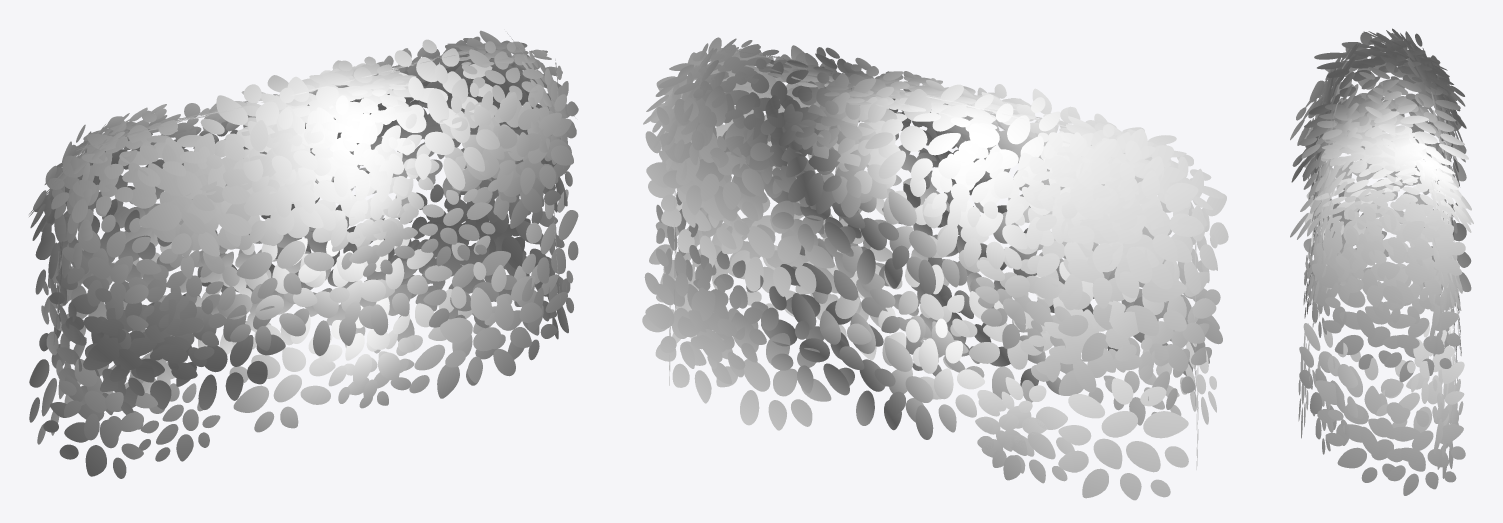
3 renders of one model, left to right at view 1: azimuth 30°, elevation 25°; view 2: azimuth 150°, elevation 25°; view 3: azimuth 270°, elevation 25°, orthographic. The views are drawn at different scales.
Visible parts, largest first — view 1: Bush_Large; view 2: Bush_Large; view 3: Bush_Large.
Boxes of the visible parts, x1=… form: Bush_Large: x1=29, y1=30, x2=578, y2=478; Bush_Large: x1=642, y1=37, x2=1228, y2=500; Bush_Large: x1=1290, y1=28, x2=1473, y2=495.
Size of the model in its own units: 1.9 by 1.22 by 0.7238.
Materials: 1 (1 with a texture image).
